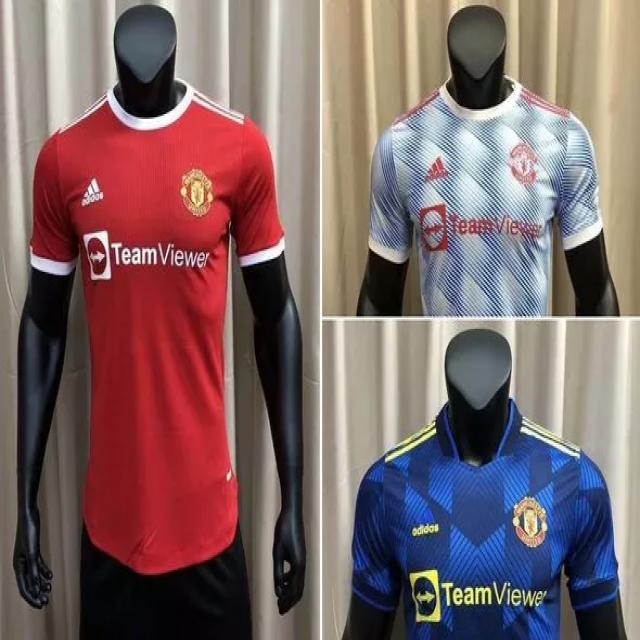Adidas: (410, 503, 442, 539), (422, 150, 452, 185), (81, 176, 104, 208)
TeamViewer: (413, 558, 549, 623), (83, 232, 213, 281), (421, 205, 544, 252)
